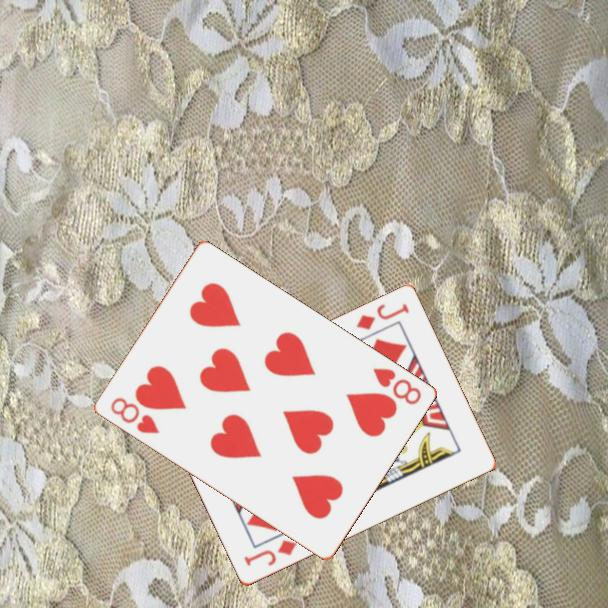d11: (240, 537, 300, 570), (352, 300, 412, 333)
h08: (369, 364, 424, 408), (107, 394, 162, 437)
